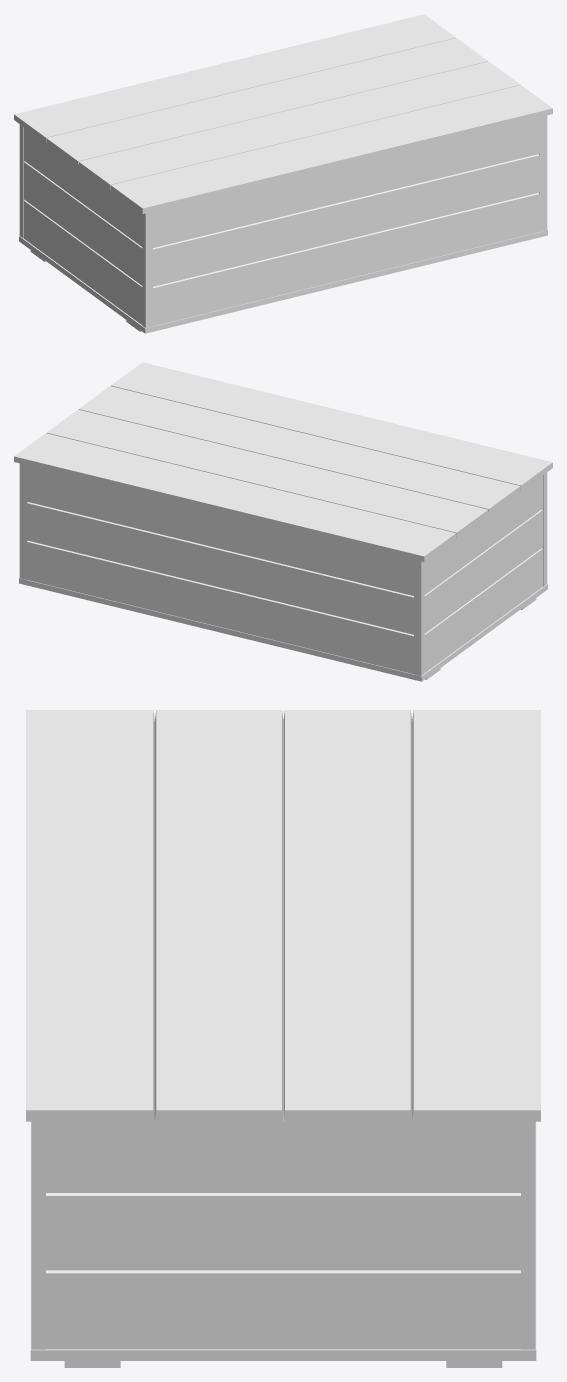
Rendered from Prop_Crate_Box_02.glb.
3 views of the same model, one above another, from view 1: azimuth 30°, elevation 25°; view 2: azimuth 150°, elevation 25°; view 3: azimuth 270°, elevation 25° (orthographic). The views are drawn at different scales.
Parts seen in each view (by area): view 1: Prop_Crate_Box_02; view 2: Prop_Crate_Box_02; view 3: Prop_Crate_Box_02.
Boxes of the visible parts, bbox=[...] form: Prop_Crate_Box_02: bbox=[14, 14, 552, 333]; Prop_Crate_Box_02: bbox=[14, 362, 552, 681]; Prop_Crate_Box_02: bbox=[26, 710, 540, 1367].
Bounding box in the file's own units: 1.7 × 0.5227 × 0.9219.
Materials: 1 (1 with a texture image).
